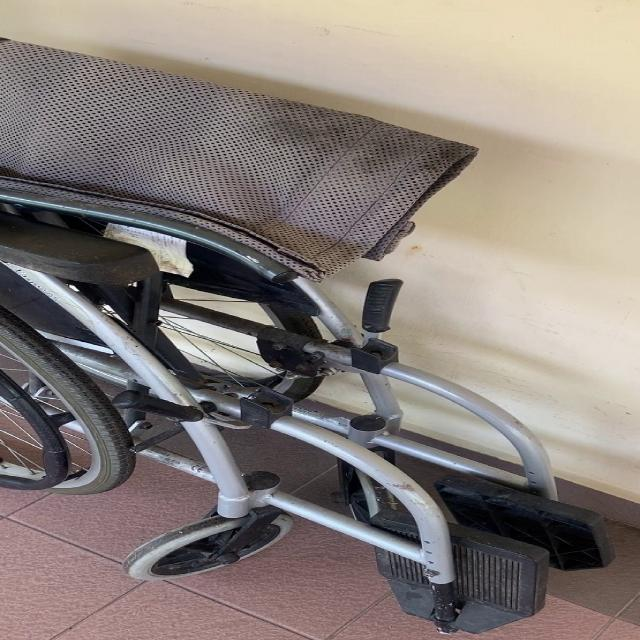wheelchair: (8, 19, 640, 640)
